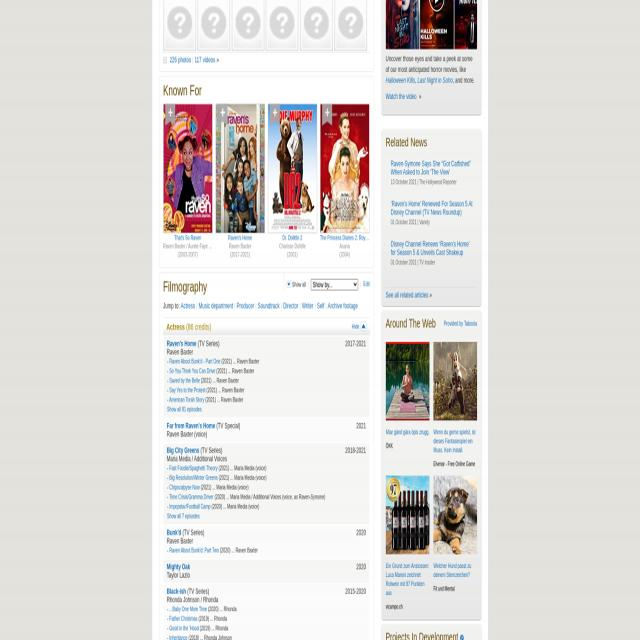button: (163, 104, 213, 234), (215, 104, 265, 234), (267, 104, 317, 234), (320, 104, 370, 234), (385, 0, 477, 50), (386, 342, 430, 422), (386, 476, 430, 556), (433, 476, 477, 556), (434, 342, 477, 421), (163, 0, 196, 51), (197, 0, 230, 51), (231, 0, 264, 51), (265, 0, 298, 51), (299, 0, 332, 51), (334, 0, 367, 51), (429, 0, 445, 12), (360, 322, 366, 332), (287, 280, 291, 288)
field: (311, 279, 359, 291)
